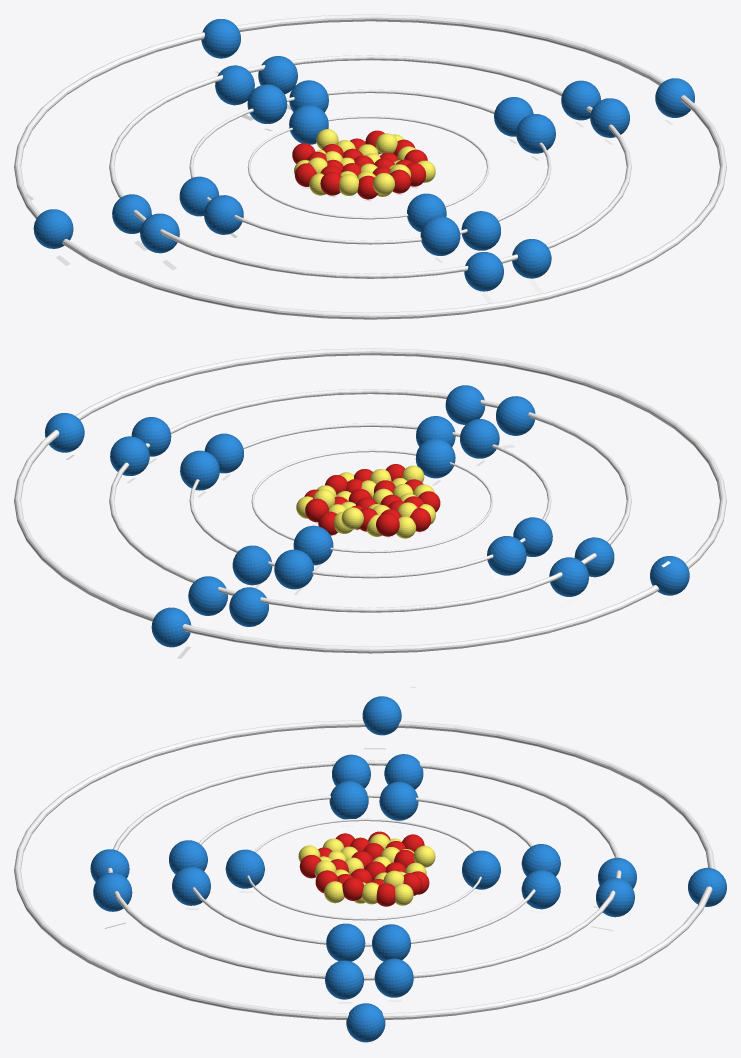
The picture shows the model from 3 angles, top to bottom: view 1: azimuth 30°, elevation 25°; view 2: azimuth 150°, elevation 25°; view 3: azimuth 270°, elevation 25°; orthographic projection.
Visible parts, largest first — view 1: Torus.004, Torus.003, Torus.002, Torus.001, -.008, -.004, -.005, -.020, -.002, -.017, -.003, -.013 (+13 smaller); view 2: Torus.004, Torus.003, Torus.002, Torus.001, -.004, -.009, -.008, -, -.006, -.007, -.016, -.017 (+13 smaller); view 3: Torus.004, Torus.003, Torus.002, Torus.001, -.010, -.006, -.015, -.019, -.018, -.003, -.002, - (+13 smaller).
Boxes of the visible parts, box(x1,y1,x2,y2) form: Torus.004: box(14, 14, 726, 319); Torus.003: box(109, 55, 631, 278); Torus.002: box(189, 89, 551, 244); Torus.001: box(247, 116, 489, 219); -.008: box(420, 216, 460, 255); -.004: box(247, 84, 287, 123); -.005: box(461, 211, 500, 250); -.020: box(201, 19, 240, 58); -.002: box(516, 114, 555, 153); -.017: box(464, 252, 503, 291); -.003: box(204, 195, 243, 234); -.013: box(512, 239, 551, 278); Torus.004: box(14, 348, 726, 653); Torus.003: box(109, 389, 631, 612); Torus.002: box(189, 423, 551, 578); Torus.001: box(251, 449, 493, 553); -.004: box(274, 549, 313, 589); -.009: box(232, 545, 272, 585); -.008: box(460, 419, 499, 458); -: box(415, 438, 455, 478); -.006: box(487, 536, 526, 575); -.007: box(180, 450, 219, 490); -.016: box(229, 587, 268, 626); -.017: box(496, 396, 535, 435); Torus.004: box(14, 720, 715, 1019); Torus.003: box(107, 760, 621, 980); Torus.002: box(192, 794, 535, 946); Torus.001: box(247, 818, 481, 920); -.010: box(374, 958, 413, 997); -.006: box(379, 781, 418, 820); -.015: box(325, 960, 363, 999); -.019: box(362, 696, 401, 735); -.018: box(346, 1003, 385, 1042); -.003: box(329, 781, 368, 819); -.002: box(326, 923, 365, 961); -: box(225, 849, 264, 888).
Bounding box in the file's own units: 8.74 × 0.9451 × 8.47.
